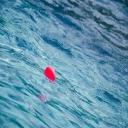red: (45, 66, 55, 80)
